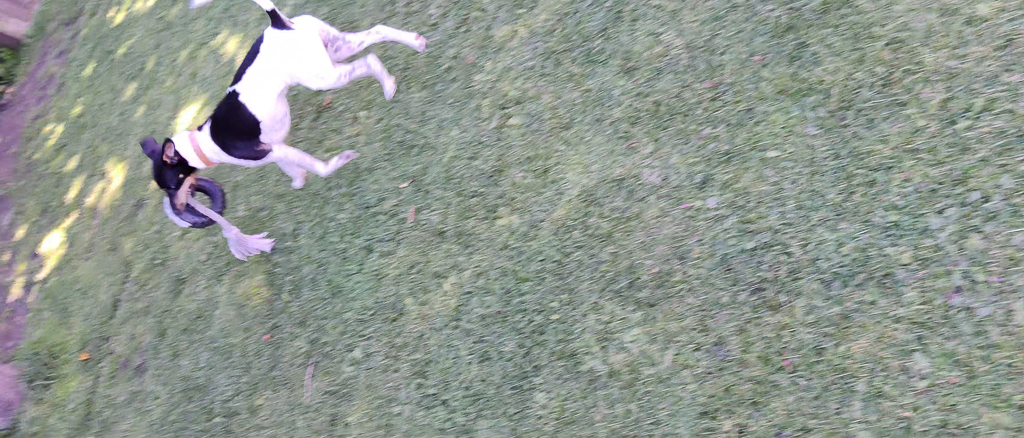Dog: (130, 0, 439, 240)
